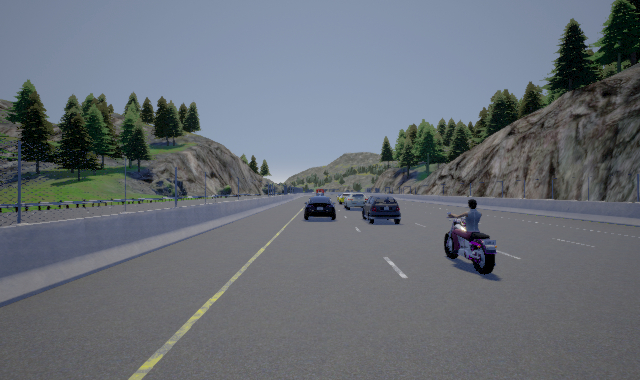motobike: (444, 197, 496, 275)
vehicle: (362, 194, 402, 223), (304, 196, 337, 220), (344, 192, 371, 210)
